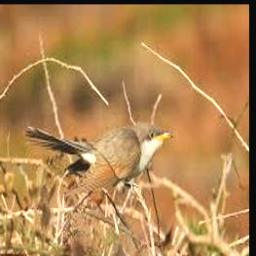Cuckoo: (26, 124, 175, 191)
